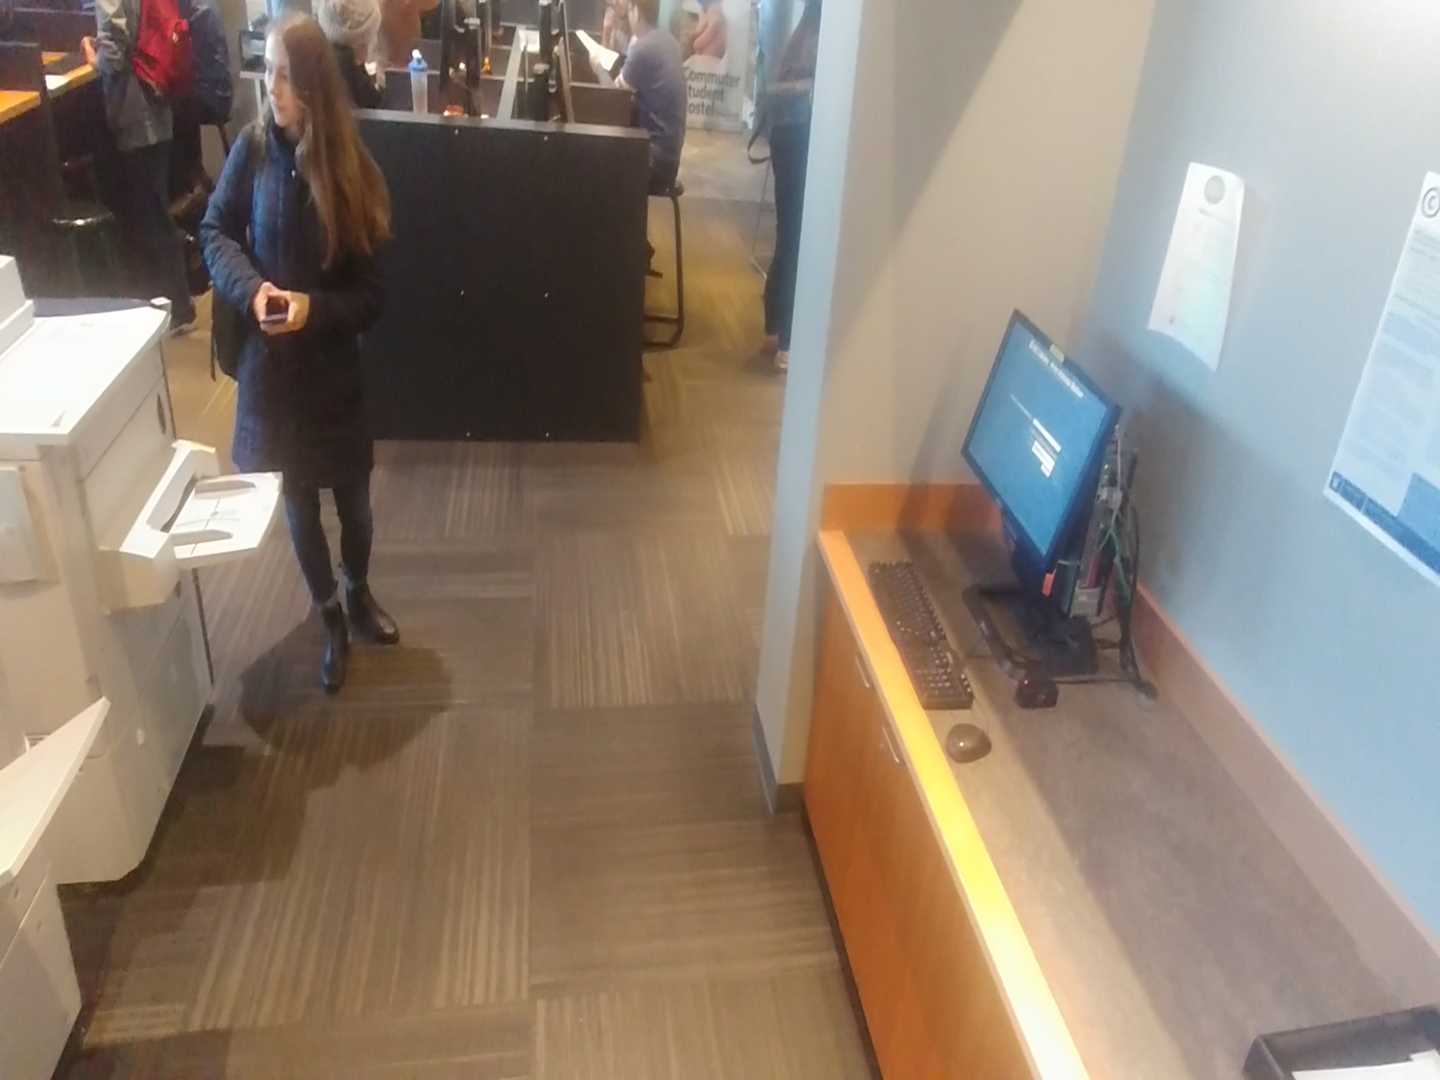face: (240, 1, 361, 155), (618, 0, 667, 41)
human: (190, 6, 411, 704), (76, 0, 206, 347), (756, 0, 826, 380), (611, 0, 702, 199)
